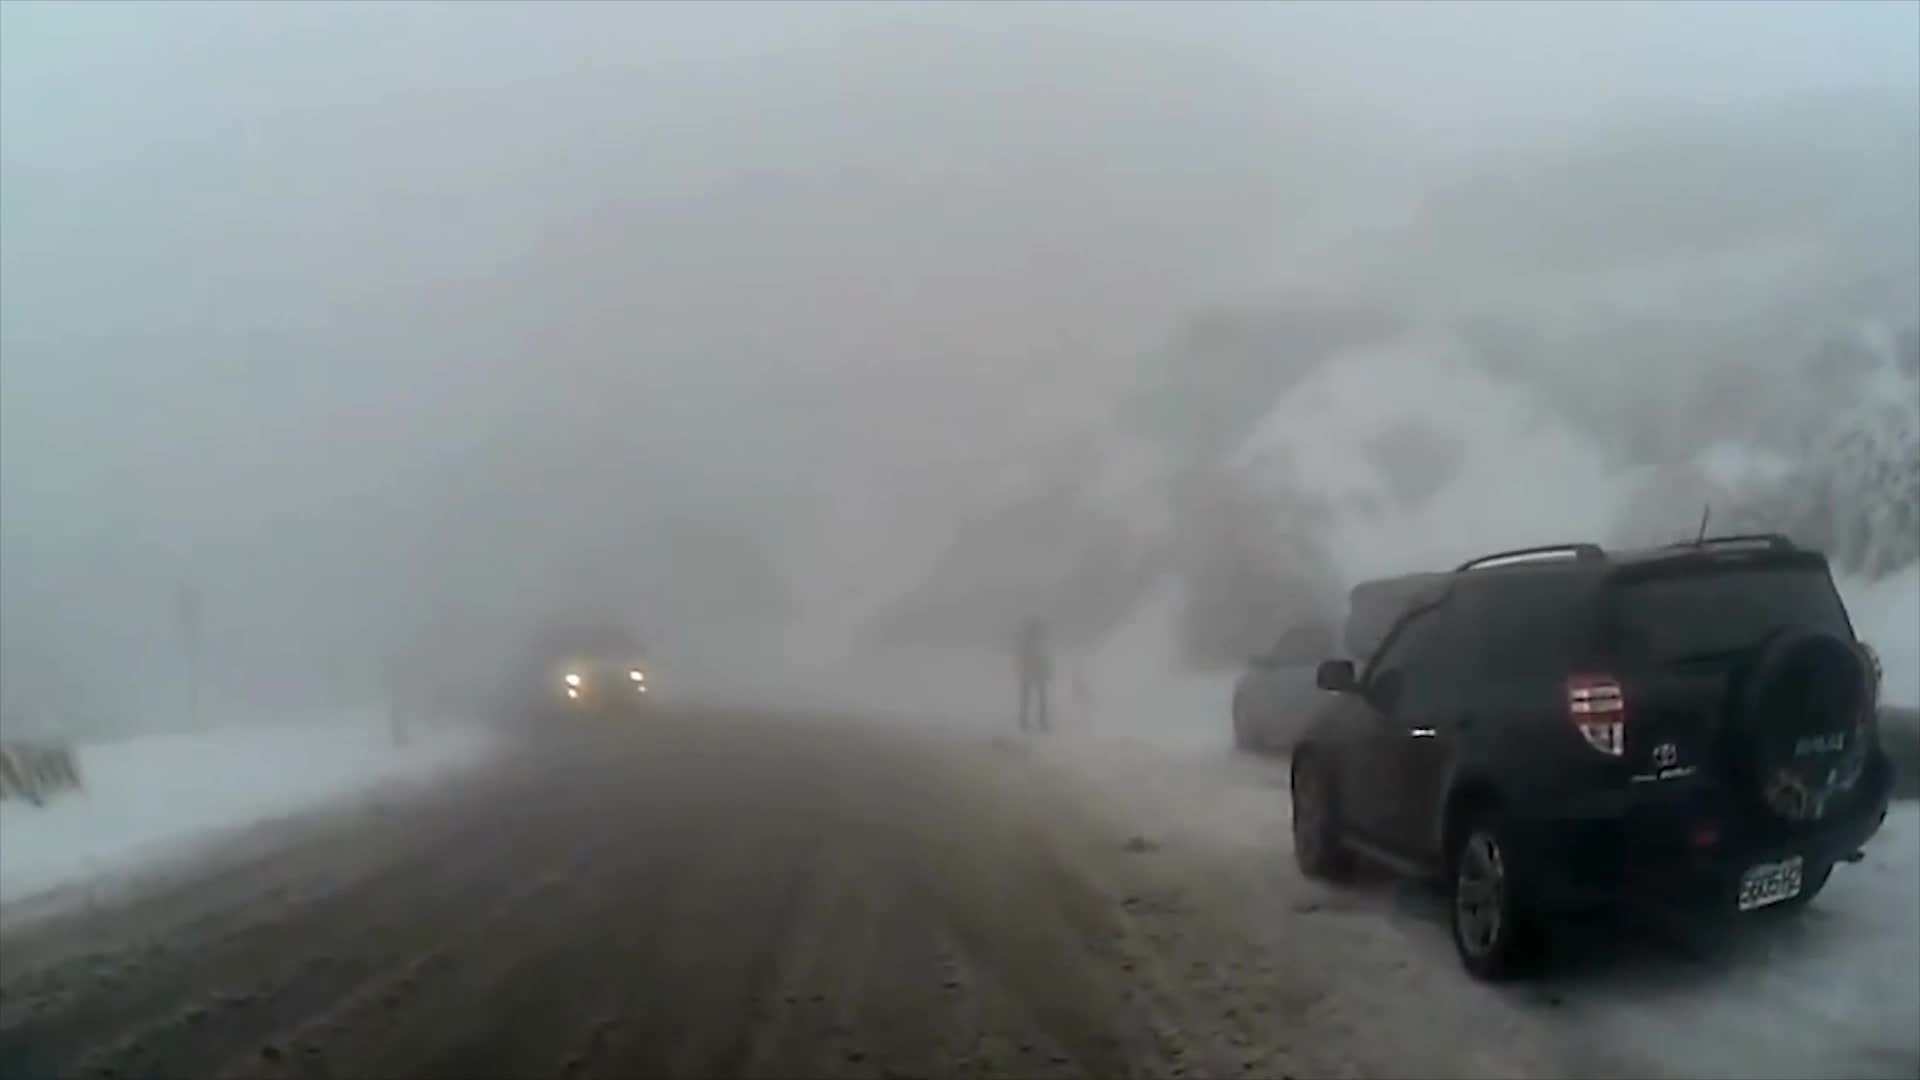pedestrian: (1011, 614, 1055, 731)
vehicle: (1286, 532, 1892, 986), (1231, 559, 1544, 763), (523, 608, 656, 722)
